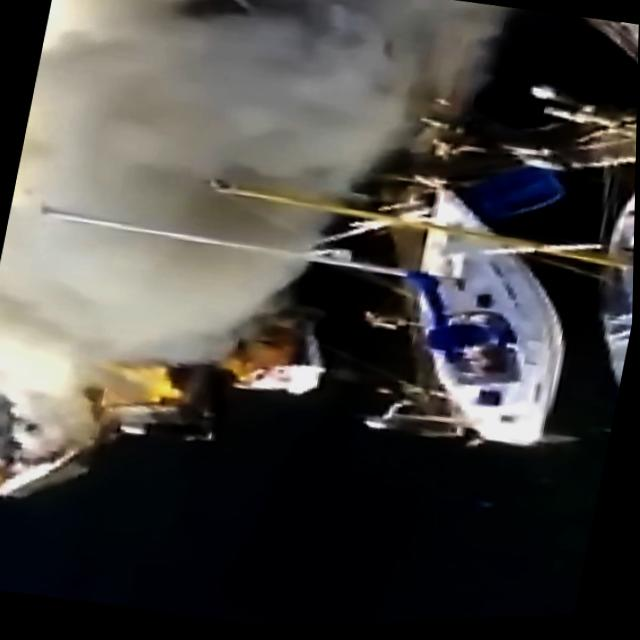smoke: (0, 0, 211, 389)
